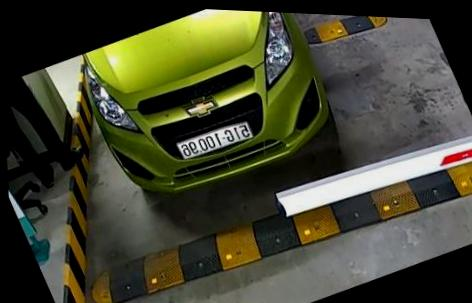License_Plate: (171, 119, 256, 168)
